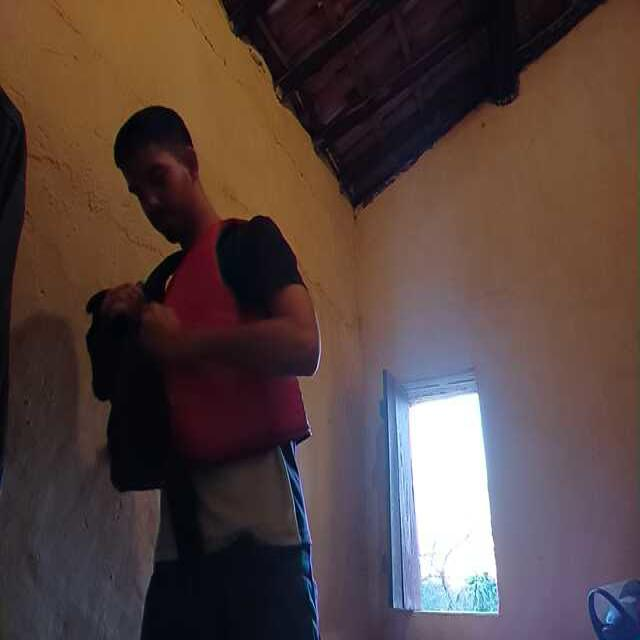colete: (116, 218, 290, 474)
pessoa: (100, 110, 319, 638)
